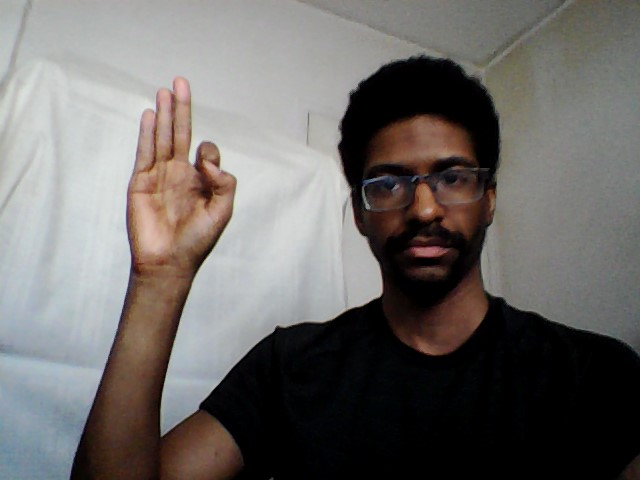f: (119, 72, 241, 287)
